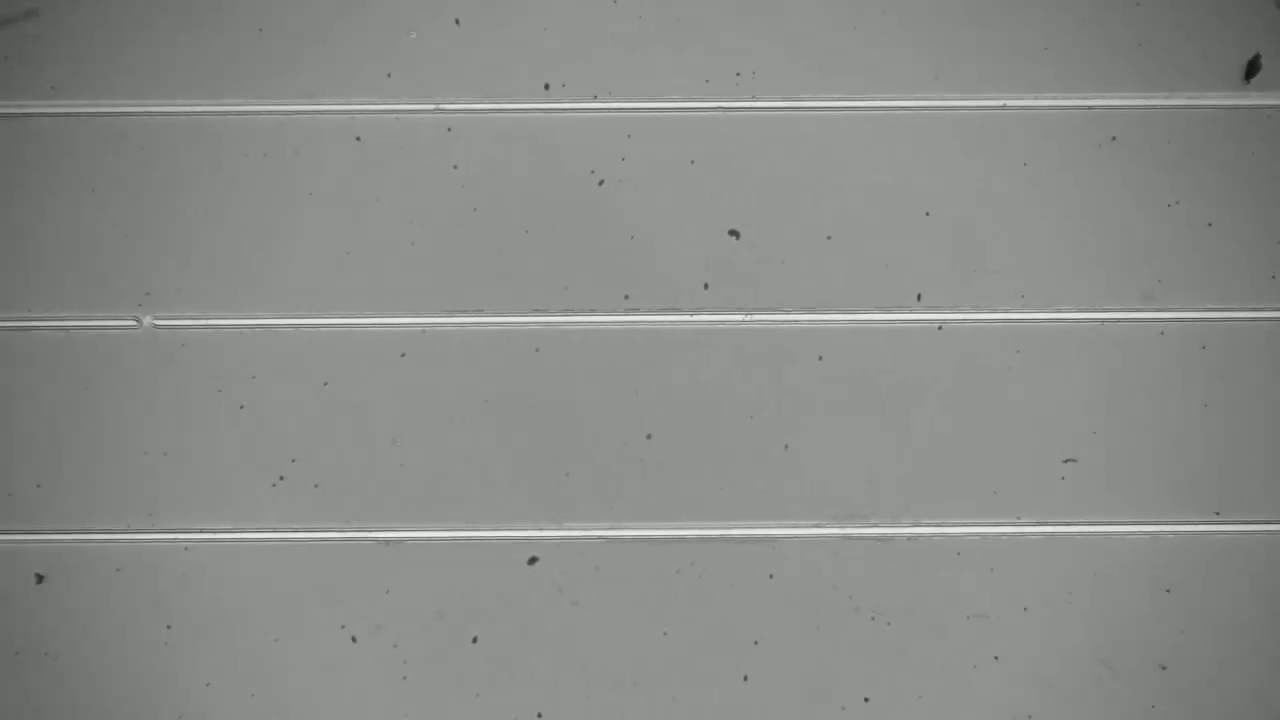open: (125, 297, 172, 343)
